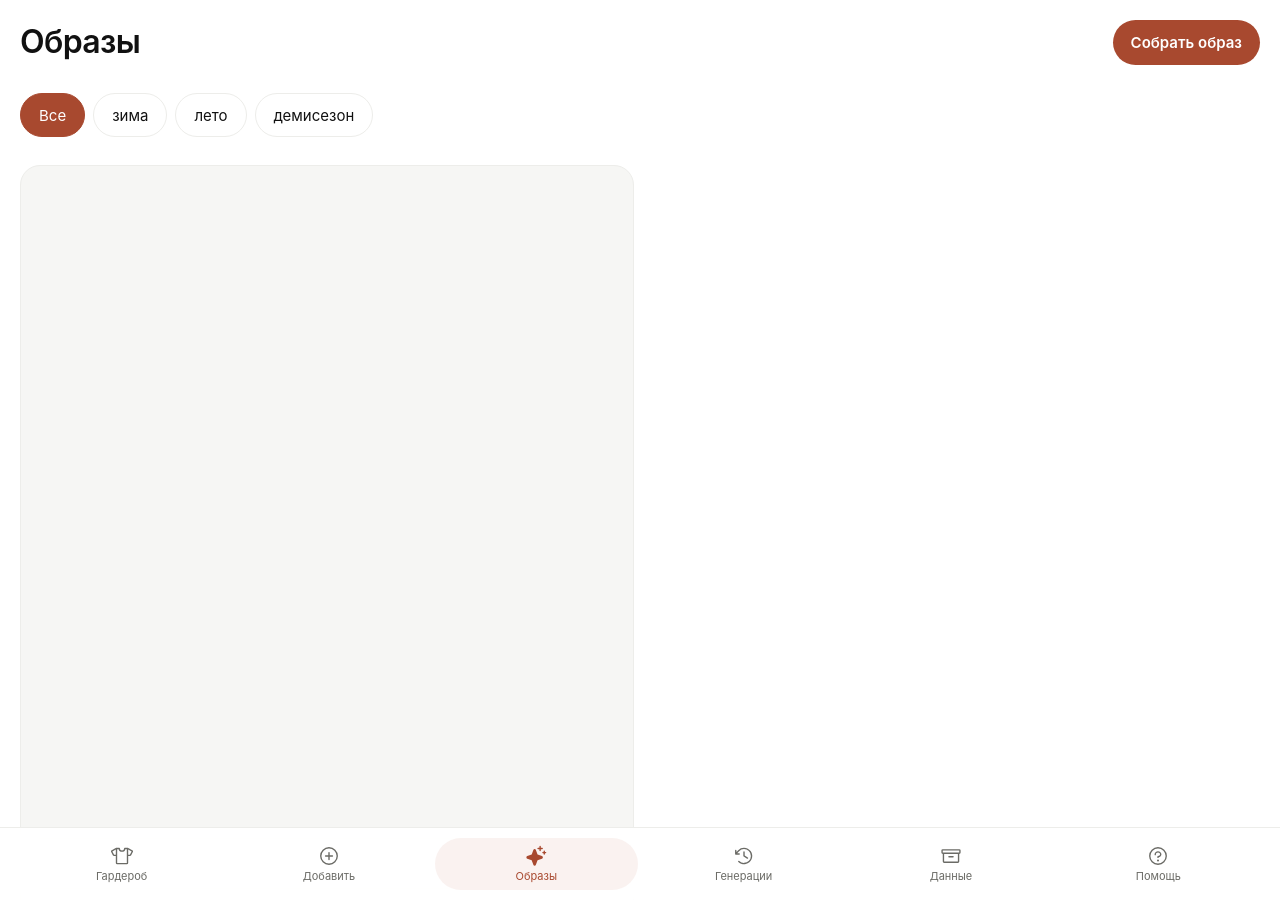
Scenario: Список образов (T18) › сезон без образов: фильтр не теряет данные и показывает понятное сообщение
What coordinates should you click on to do the following:
click the button "зима"
I would click on:
 (130, 115)
Its box is [93,93,167,137].
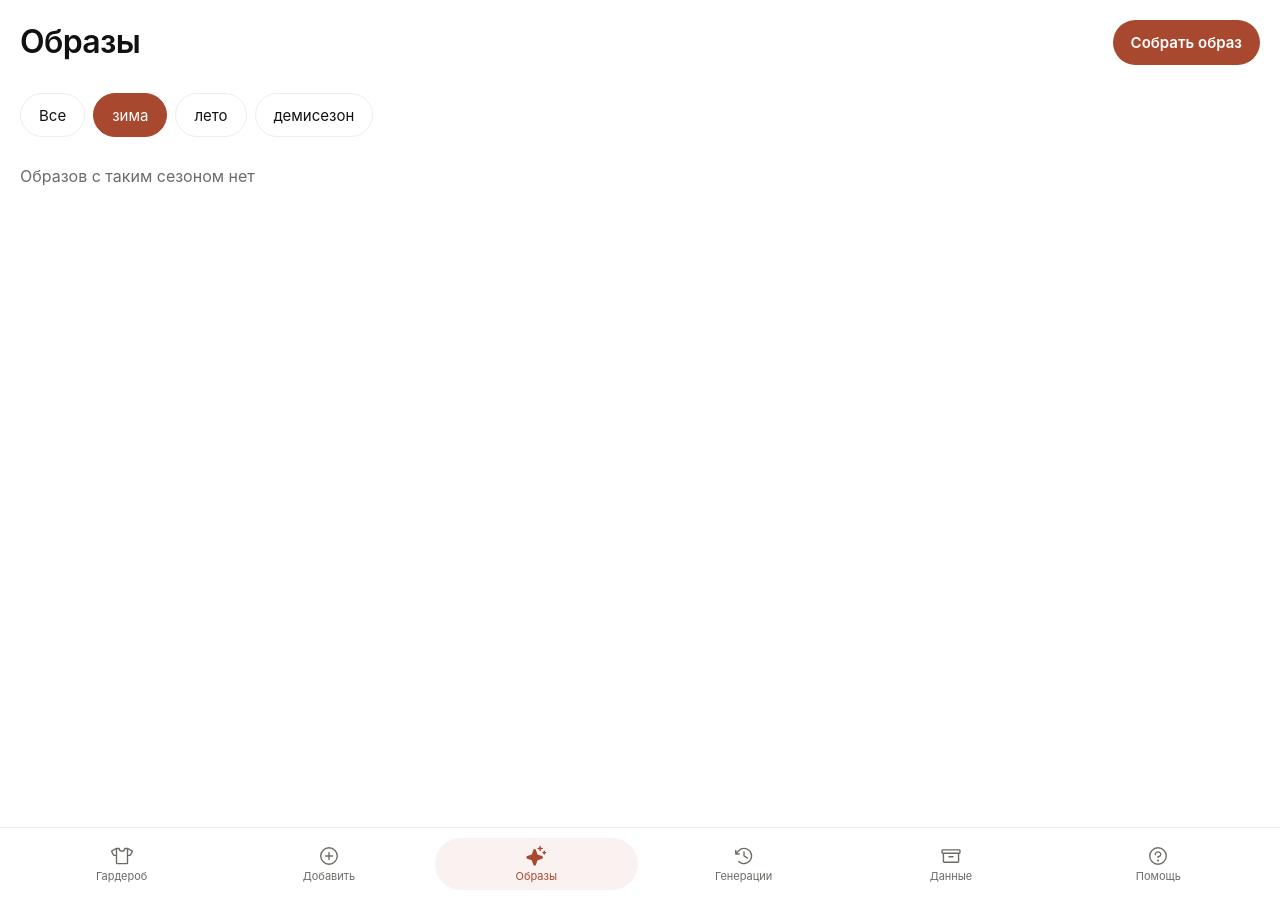
Expected: the text "Образов с таким сезоном нет" is shown, [20,166,255,186]
// Образ не удалён — он снова виден после сброса фильтра.
What coordinates should you click on to do the following:
click the button "Все"
I would click on:
 (53, 115)
Its box is [20,93,85,137].
(page scrolled)
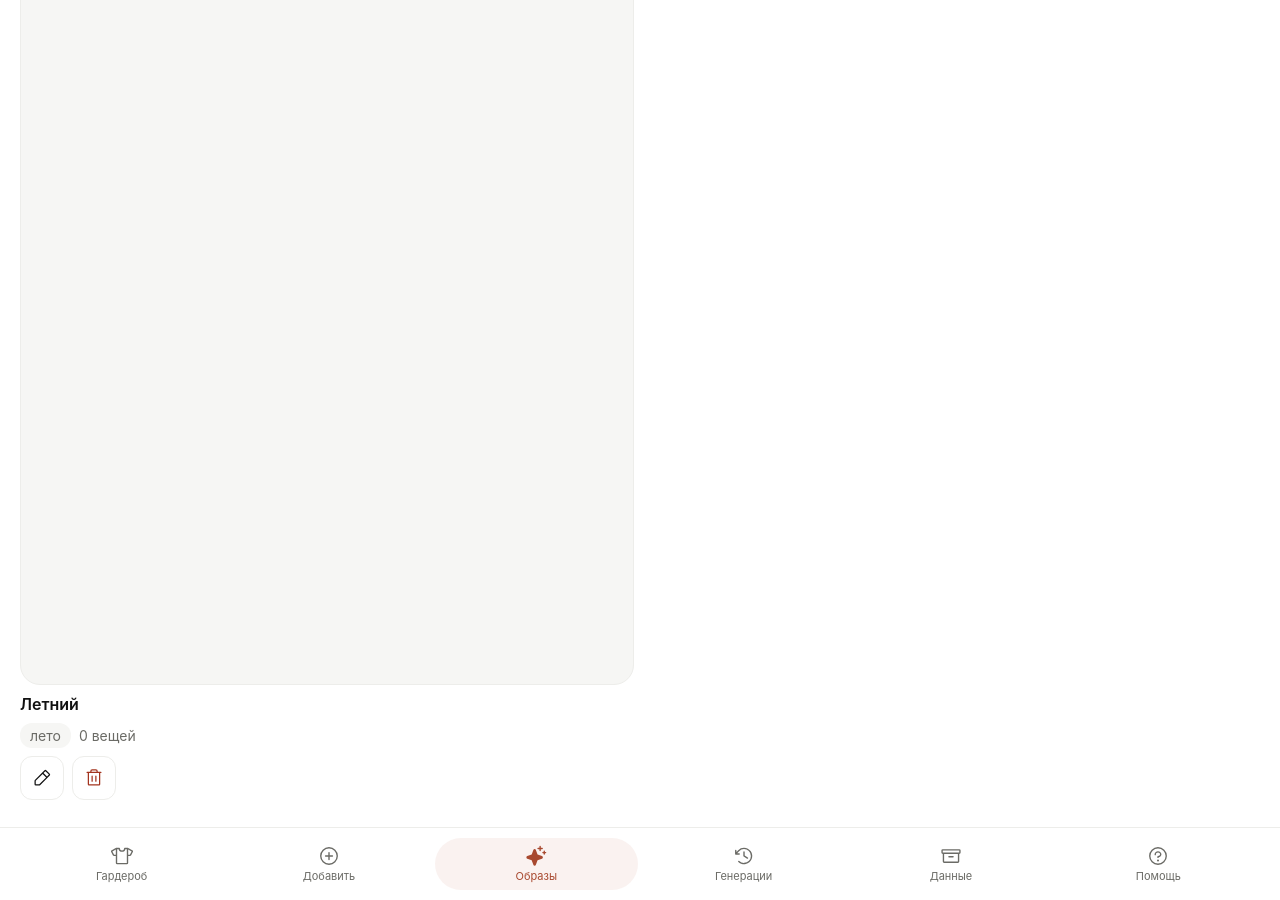
Expected: the text "Летний" is shown, [20,692,79,715]
